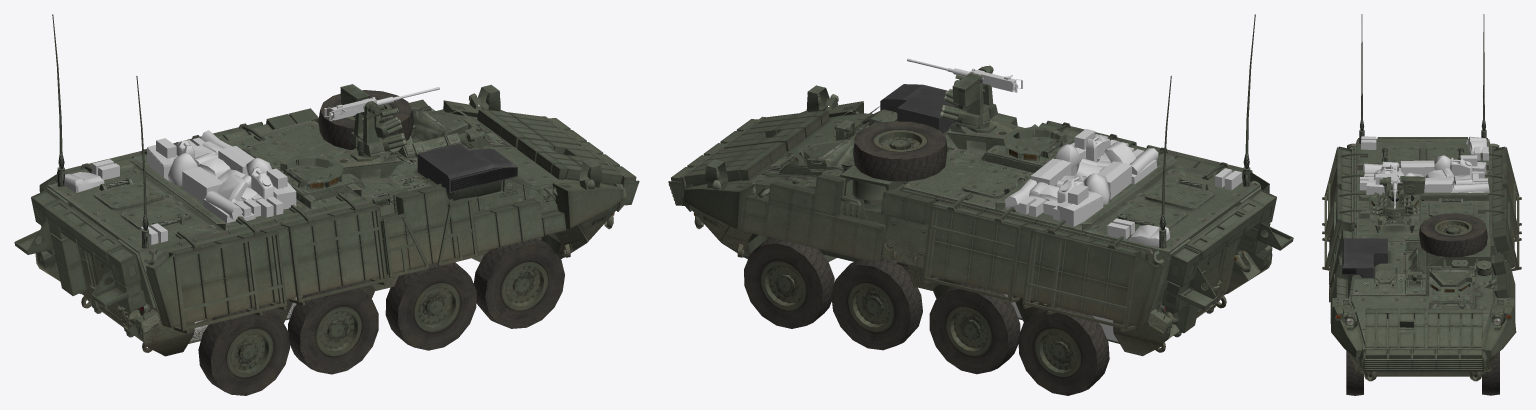
The model's file is 50cal.fbx.
The picture shows the model from 3 angles, left to right: view 1: azimuth 30°, elevation 25°; view 2: azimuth 150°, elevation 25°; view 3: azimuth 270°, elevation 25°; orthographic projection. The views are drawn at different scales.
Parts seen in each view (by area): view 1: hull, hull2, frame 2, tire, tire02, tire04, tire06, back frames, aircon, era059, tire08, caixa (+57 smaller); view 2: hull, hull2, tire03, tire01, frame, tire05, tire07, back frames, tire08, aircon, era121, hatch (+53 smaller); view 3: hull, hull2, tire08, front frame, frame 2, hatch, frame, aircon, era121, era059, mount, optics (+44 smaller).
Boxes of the visible parts, bbox=[...] form: hull: bbox=[46, 107, 626, 352]; hull2: bbox=[35, 108, 559, 356]; frame 2: bbox=[173, 193, 429, 333]; tire: bbox=[473, 238, 564, 328]; tire02: bbox=[385, 259, 476, 350]; tire04: bbox=[288, 284, 378, 374]; tire06: bbox=[198, 305, 289, 395]; back frames: bbox=[14, 190, 146, 312]; aircon: bbox=[417, 143, 517, 193]; era059: bbox=[552, 182, 623, 228]; tire08: bbox=[318, 90, 413, 149]; caixa: bbox=[146, 222, 280, 327]; hull: bbox=[682, 113, 1261, 352]; hull2: bbox=[749, 106, 1272, 356]; tire03: bbox=[831, 258, 922, 350]; tire01: bbox=[744, 238, 834, 328]; frame: bbox=[922, 192, 1136, 332]; tire05: bbox=[929, 282, 1020, 374]; tire07: bbox=[1018, 304, 1109, 395]; back frames: bbox=[1161, 190, 1293, 311]; tire08: bbox=[853, 121, 947, 181]; aircon: bbox=[880, 84, 957, 133]; era121: bbox=[684, 183, 754, 229]; hatch: bbox=[777, 139, 854, 176]; hull: bbox=[1347, 130, 1506, 377]; hull2: bbox=[1332, 143, 1514, 313]; tire08: bbox=[1419, 213, 1487, 257]; front frame: bbox=[1363, 347, 1483, 371]; frame 2: bbox=[1322, 147, 1367, 284]; hatch: bbox=[1429, 268, 1475, 303]; frame: bbox=[1478, 147, 1521, 271]; aircon: bbox=[1342, 238, 1387, 274]; era121: bbox=[1484, 304, 1516, 357]; era059: bbox=[1331, 304, 1363, 357]; mount: bbox=[1372, 177, 1417, 219]; optics: bbox=[1387, 176, 1425, 201].
Size of the model in its own units: 760 by 455 by 336.
